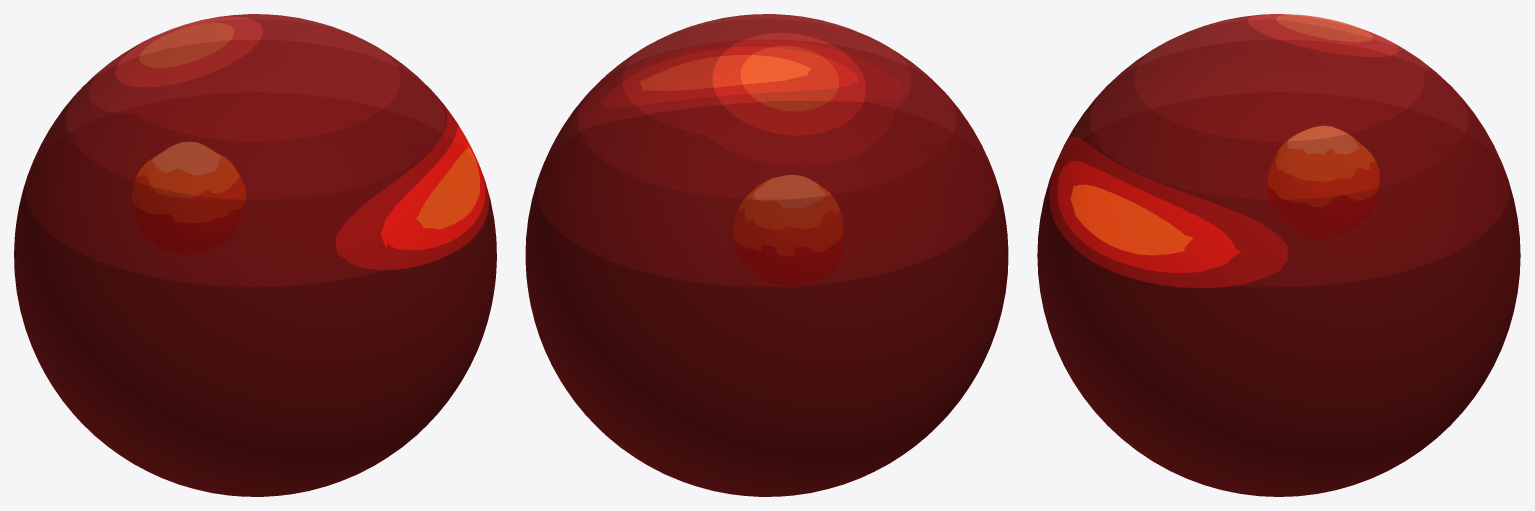
The model's file is orb_crimson.glb.
3 renders of one model, left to right at view 1: azimuth 30°, elevation 25°; view 2: azimuth 150°, elevation 25°; view 3: azimuth 270°, elevation 25°, orthographic.
Parts seen in each view (by area): view 1: glass, ember; view 2: glass, ember; view 3: glass, ember.
Boxes of the visible parts, x1,y1,x2,y2 form: glass: (14, 14, 496, 496); ember: (132, 142, 245, 254); glass: (525, 14, 1008, 496); ember: (734, 175, 843, 286); glass: (1037, 14, 1520, 496); ember: (1266, 126, 1379, 238).
Size of the model in its own units: 20.6 by 20.6 by 20.6.
